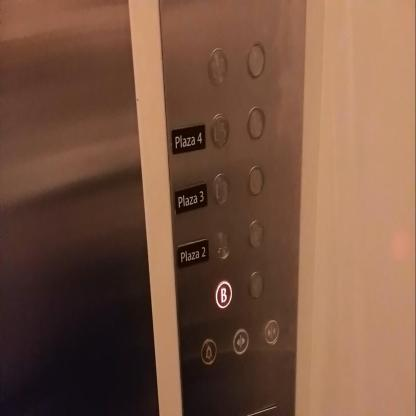B: (214, 278, 233, 310)
L3: (212, 172, 230, 206)
L5: (210, 112, 229, 148)
alarm: (200, 337, 217, 365)
blur: (208, 47, 227, 86), (246, 40, 265, 78), (246, 106, 265, 140), (213, 229, 232, 260), (248, 164, 264, 197), (248, 219, 264, 250), (248, 270, 264, 300)
close: (264, 318, 279, 346)
open: (232, 327, 249, 355)
